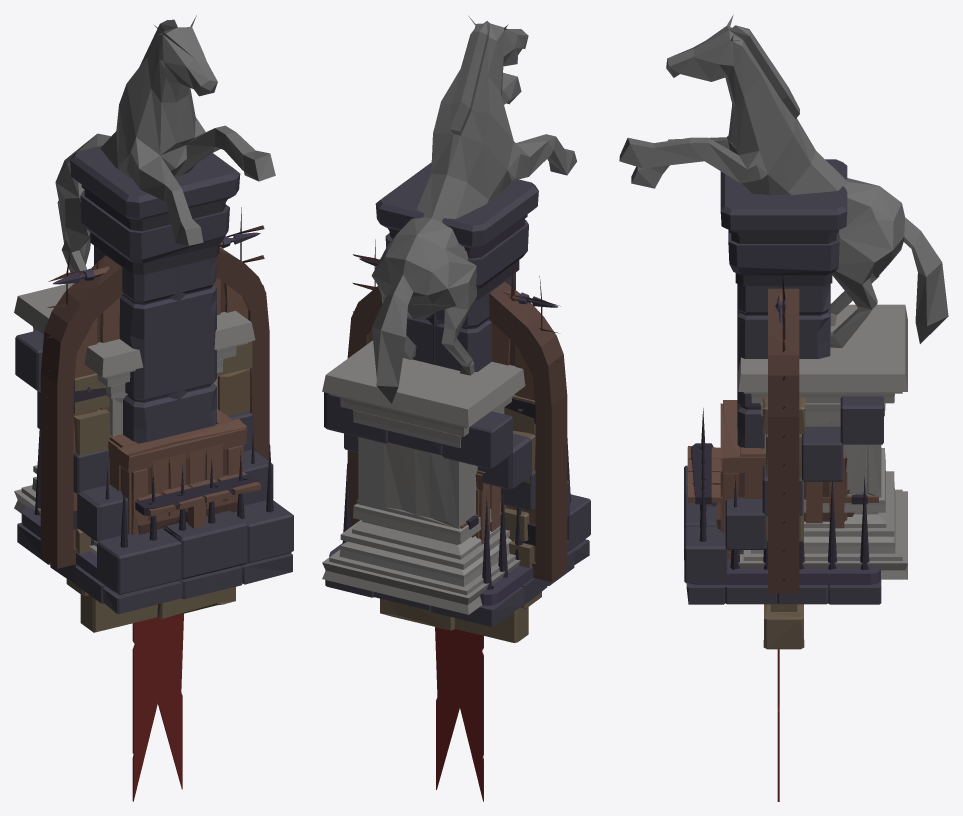
File: dungeon.glb
3 views of the same model, side by side, from view 1: azimuth 30°, elevation 25°; view 2: azimuth 150°, elevation 25°; view 3: azimuth 270°, elevation 25° (orthographic). The views are drawn at different scales.
Parts seen in each view (by area): view 1: body (×14), spikes, base; view 2: body (×12), spikes; view 3: body (×11), spikes.
Boxes of the visible parts, box(x1,y1,x2,y2) form: body (×14): box(14, 15, 293, 801); spikes: box(35, 429, 273, 551); base: box(138, 499, 237, 534); body (×12): box(322, 15, 590, 801); spikes: box(342, 438, 570, 590); body (×11): box(619, 14, 948, 649); spikes: box(699, 408, 869, 569).
Bounding box in the file's own units: 2.48 × 8.65 × 3.38.
